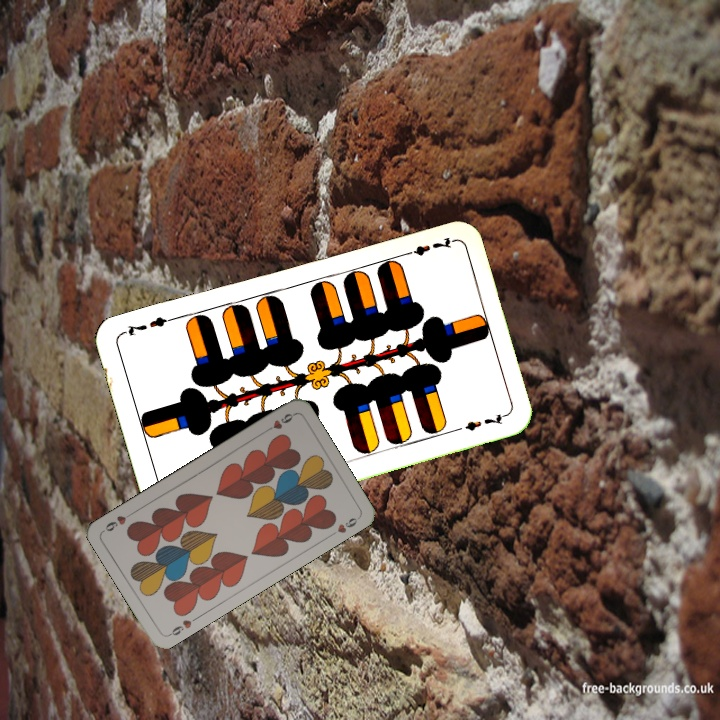E7: (397, 233, 456, 259)
H9: (260, 409, 297, 436), (164, 613, 201, 639)
